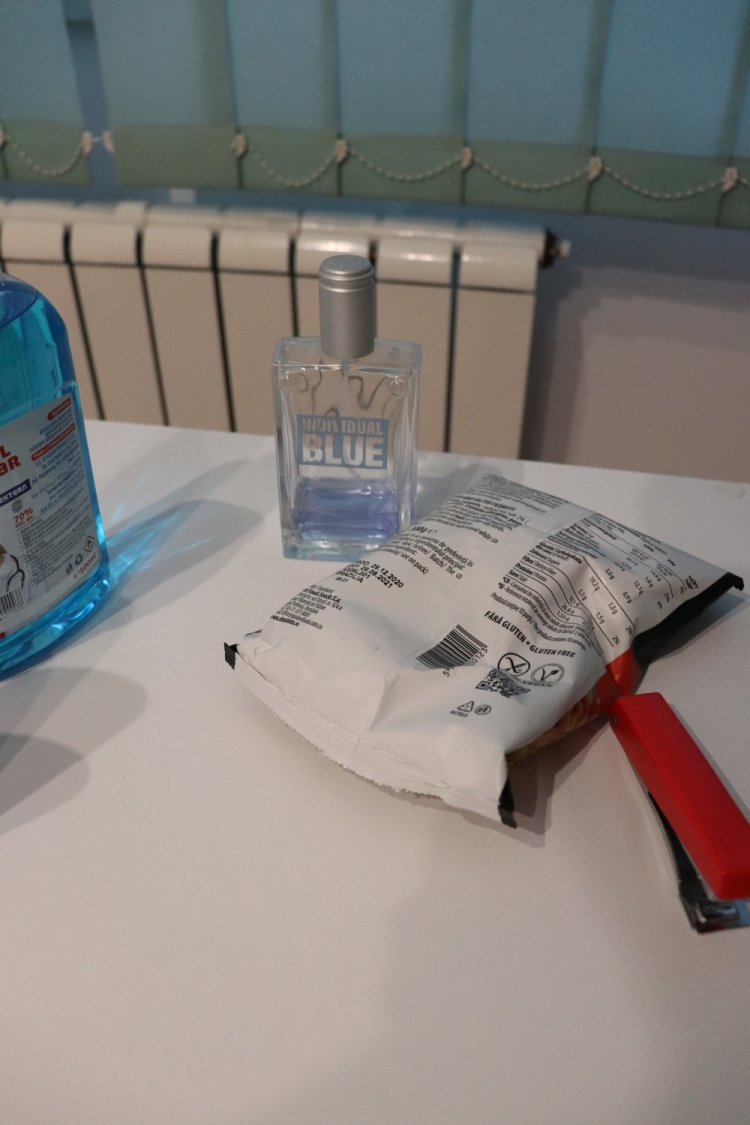peanuts: (207, 468, 747, 851)
